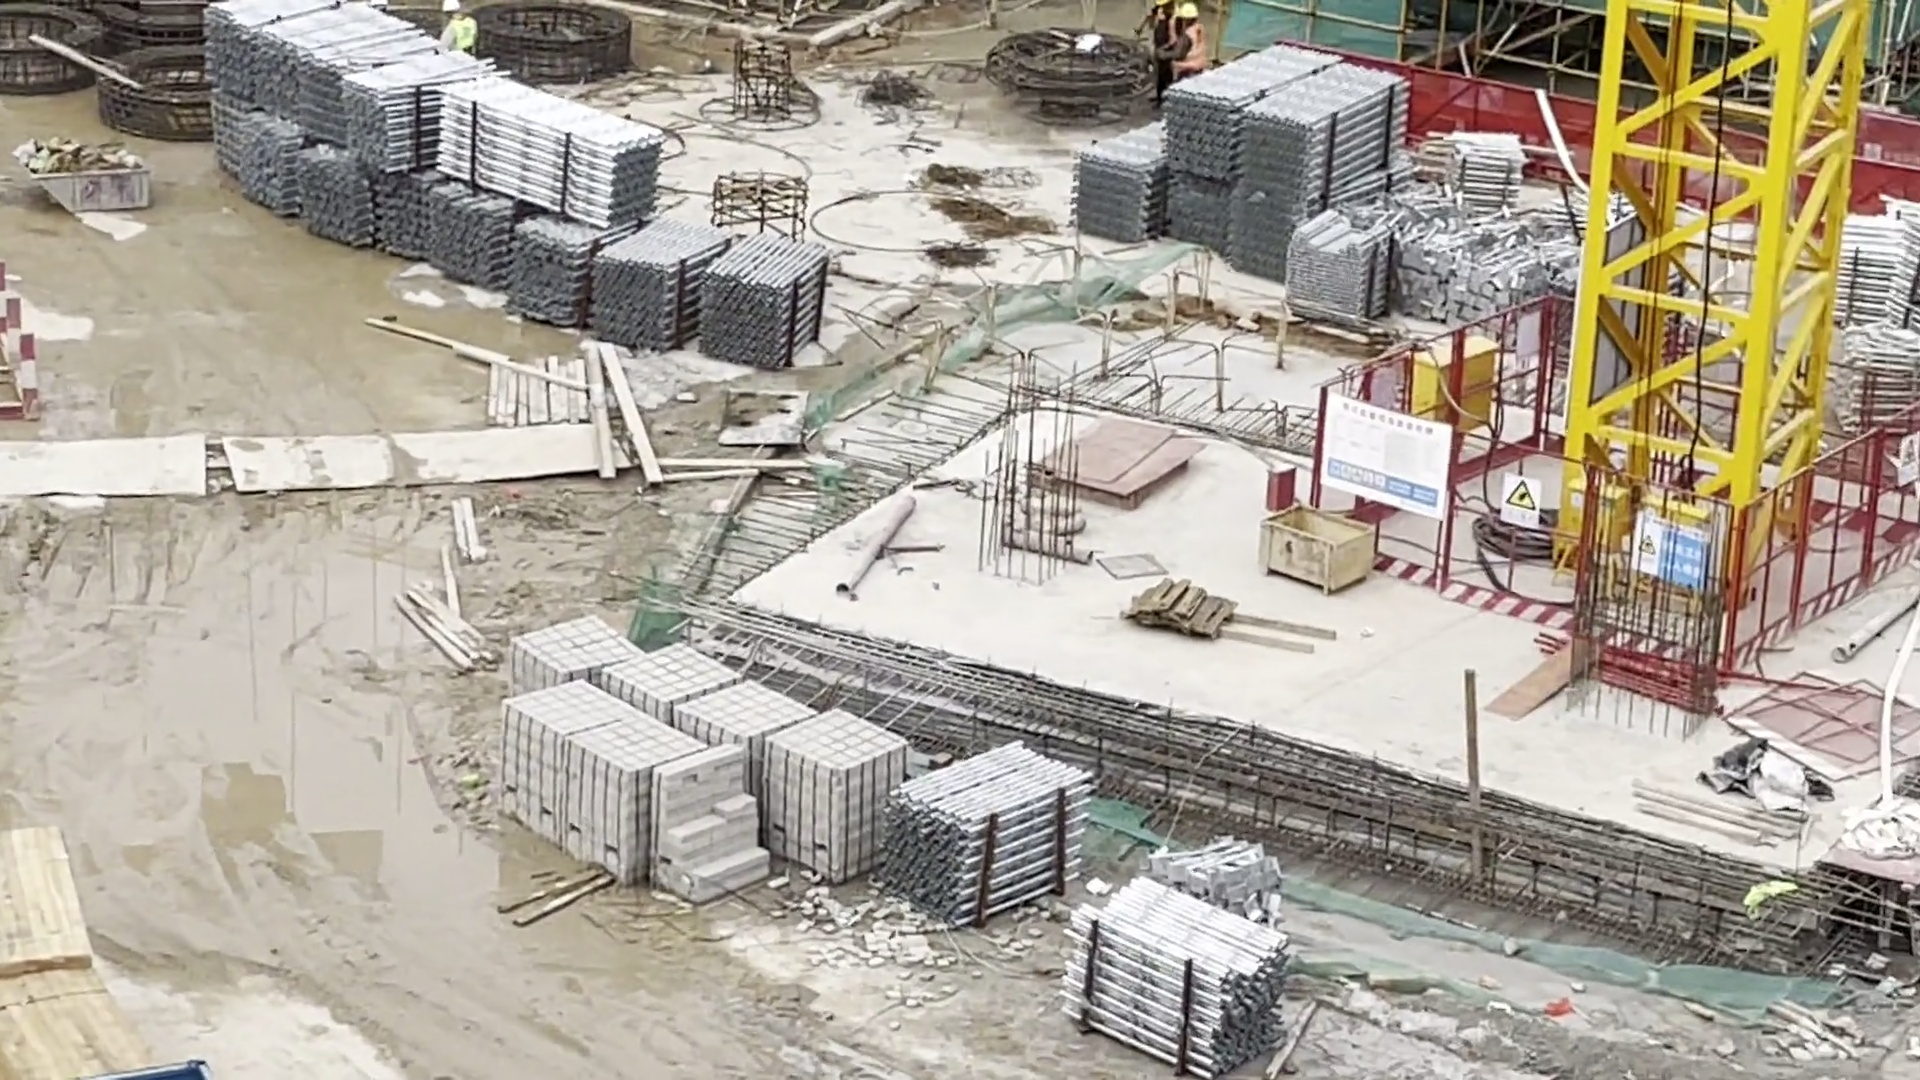brick: (477, 612, 914, 908)
ebox: (1553, 468, 1714, 612), (1369, 314, 1499, 435)
fence: (1277, 392, 1722, 702), (1367, 54, 1920, 217), (1714, 416, 1920, 664), (1318, 296, 1549, 488)
helmet: (1174, 3, 1205, 19), (439, 1, 465, 13), (1149, 1, 1175, 8)
hopper: (13, 126, 183, 232), (1257, 504, 1387, 611)
person: (1165, 1, 1215, 88), (438, 1, 482, 55)
scaffold: (188, 1, 860, 385), (1058, 49, 1585, 322), (1061, 880, 1303, 1080), (884, 735, 1102, 926), (1831, 188, 1920, 407)
slogan: (1313, 393, 1458, 539), (1626, 508, 1710, 596), (1492, 469, 1537, 543), (1891, 415, 1920, 488)
vest: (1138, 9, 1184, 68), (1179, 27, 1223, 76), (426, 15, 490, 47)
wood: (4, 804, 192, 1080)
